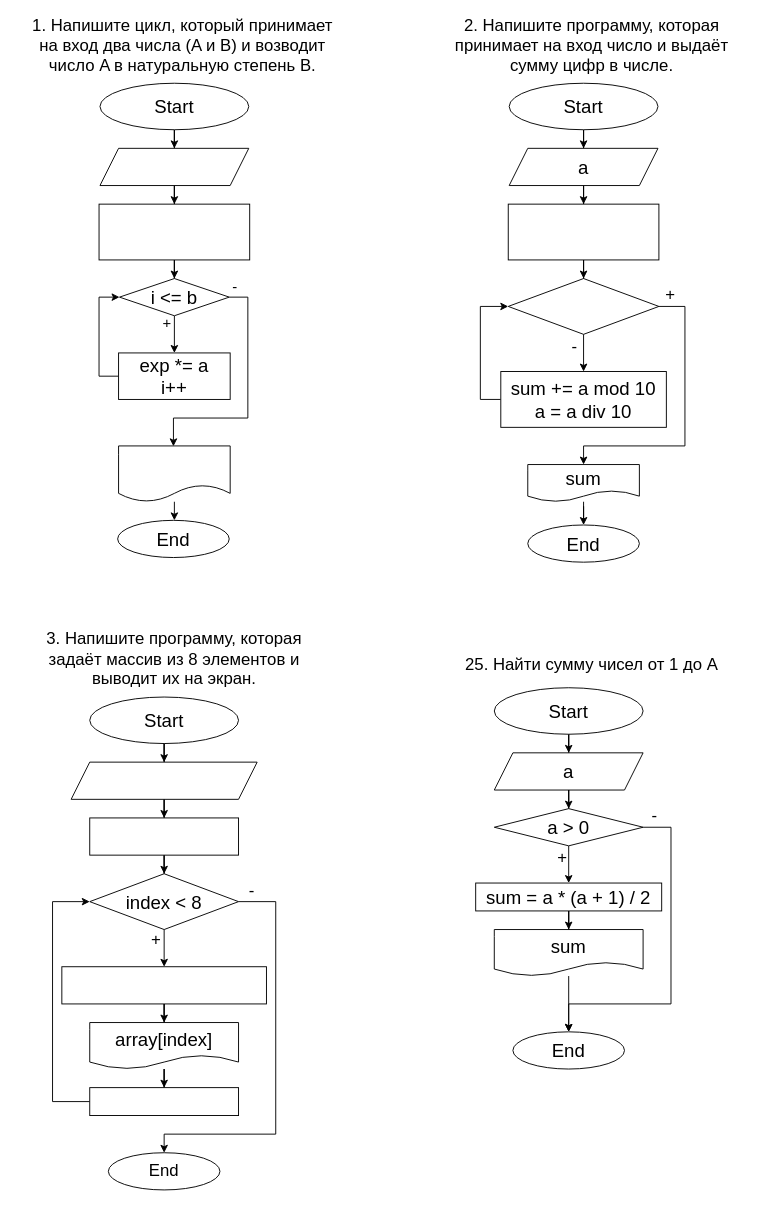
Some shapes in this 765 by 1206 pixel diagram are drawn without their labels. The shapes that lost their labels are listed below. From the top down, each one's centre as x and y in pixels, then its label:
At point (174, 166): "a, b".
At point (174, 231): "i = 1 exp = 1".
At point (583, 231): "sum = 0".
At point (583, 306): "a == 0".
At point (174, 473): "exp".
At point (163, 780): "array = {n0, ..., n7}".
At point (164, 836): "index = 0".
At point (163, 985): "array[index] = random()".
At point (164, 1101): "index++".
